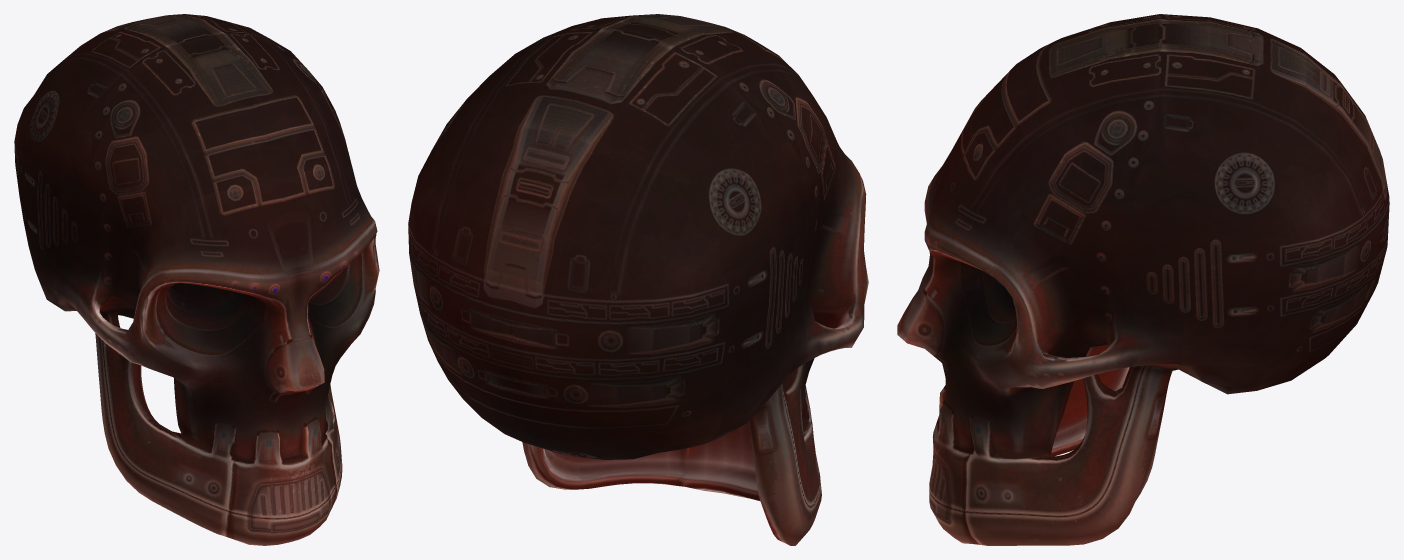
File: cyber_skull_low.glb
The picture shows the model from 3 angles, left to right: view 1: azimuth 30°, elevation 25°; view 2: azimuth 150°, elevation 25°; view 3: azimuth 270°, elevation 25°; orthographic projection. The views are drawn at different scales.
Parts seen in each view (by area): view 1: skull_NFT_lowpoly; view 2: skull_NFT_lowpoly; view 3: skull_NFT_lowpoly.
Boxes of the visible parts, x1,y1,x2,y2 form: skull_NFT_lowpoly: [14, 14, 379, 545]; skull_NFT_lowpoly: [408, 14, 868, 545]; skull_NFT_lowpoly: [897, 14, 1389, 545].
Bounding box in the file's own units: 0.5075 × 0.7892 × 0.7121.
1 material, 1 textured.
